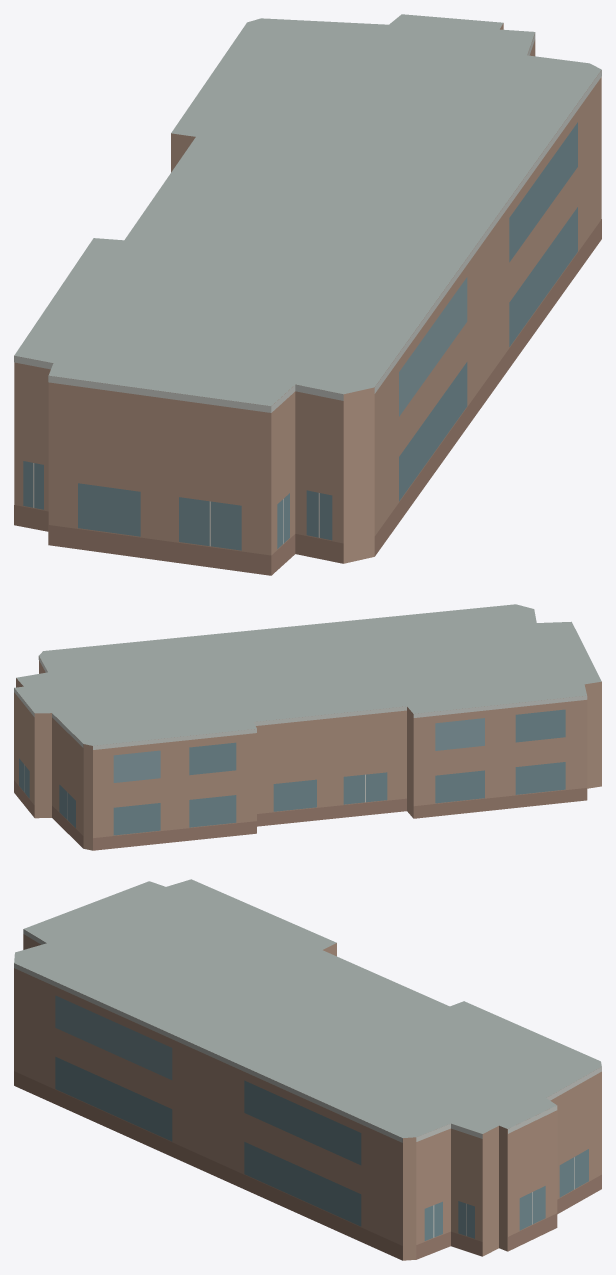
The model's file is survey-upis-32836498.glb.
3 renders of one model, top to bottom at view 1: azimuth 30°, elevation 25°; view 2: azimuth 150°, elevation 25°; view 3: azimuth 270°, elevation 25°, orthographic. The views are drawn at different scales.
Parts seen in each view (by area): view 1: survey-upis-32836498.tmp; view 2: survey-upis-32836498.tmp; view 3: survey-upis-32836498.tmp.
Boxes of the visible parts, x1,y1,x2,y2 form: survey-upis-32836498.tmp: [14, 14, 601, 575]; survey-upis-32836498.tmp: [14, 604, 601, 850]; survey-upis-32836498.tmp: [14, 879, 601, 1260].
Size of the model in its own units: 27.65 by 6.1 by 26.52.
